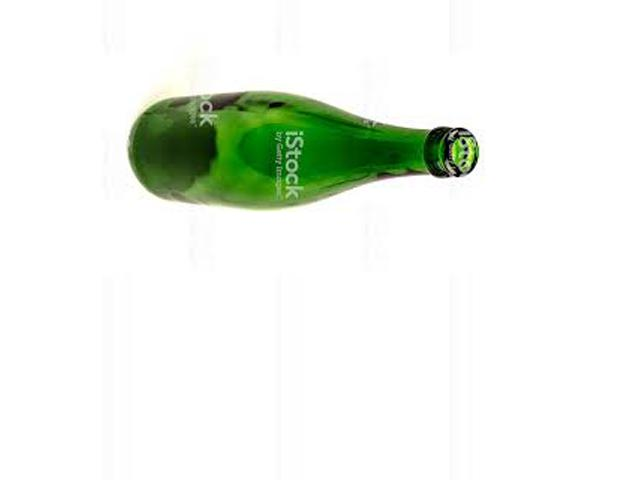beer: (127, 90, 479, 210)
